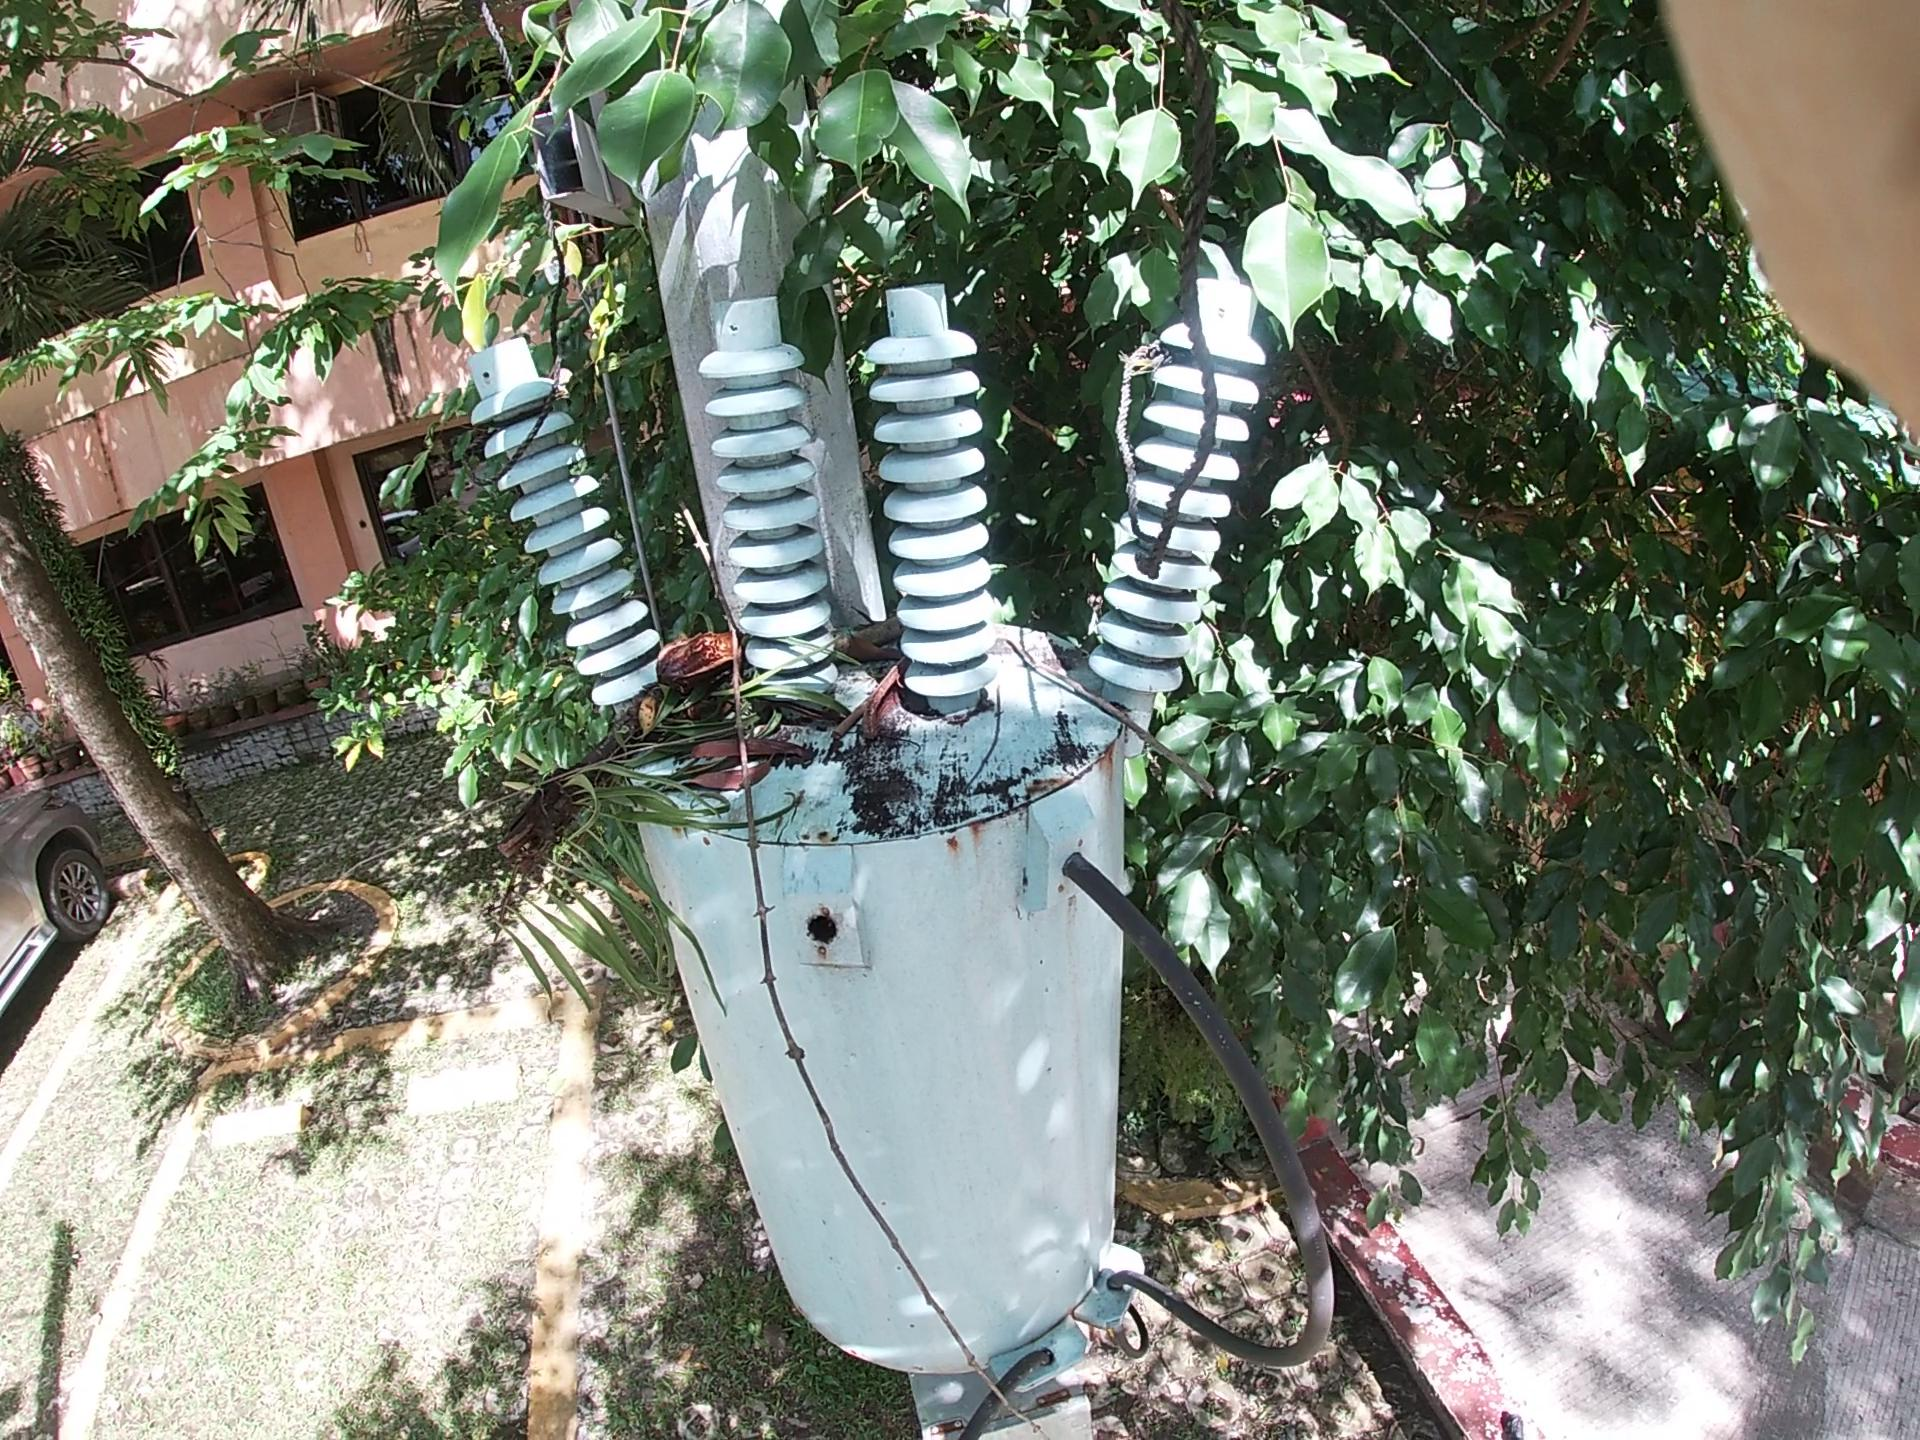branch with leaves: (977, 601, 1299, 902), (481, 616, 721, 970)
leaf: (636, 681, 883, 844)
mahogany fruit: (621, 613, 869, 712), (853, 629, 939, 755)
tree branch: (668, 489, 897, 1327), (804, 594, 919, 936)
